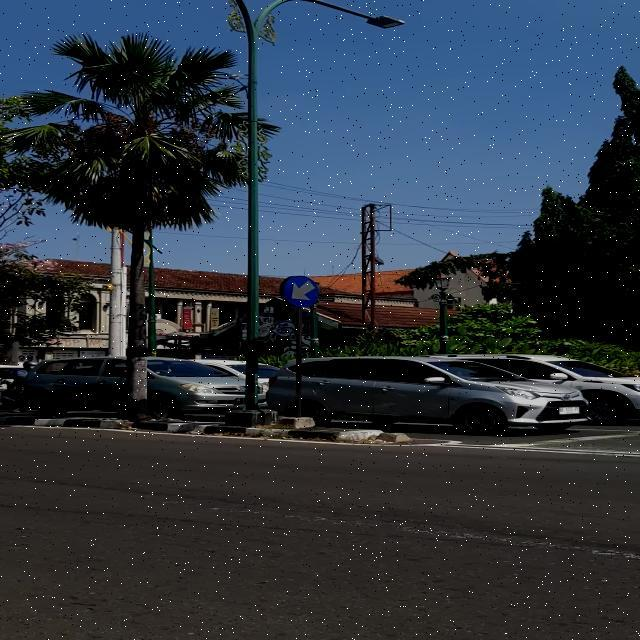Lajur Kiri: (284, 276, 318, 306)
